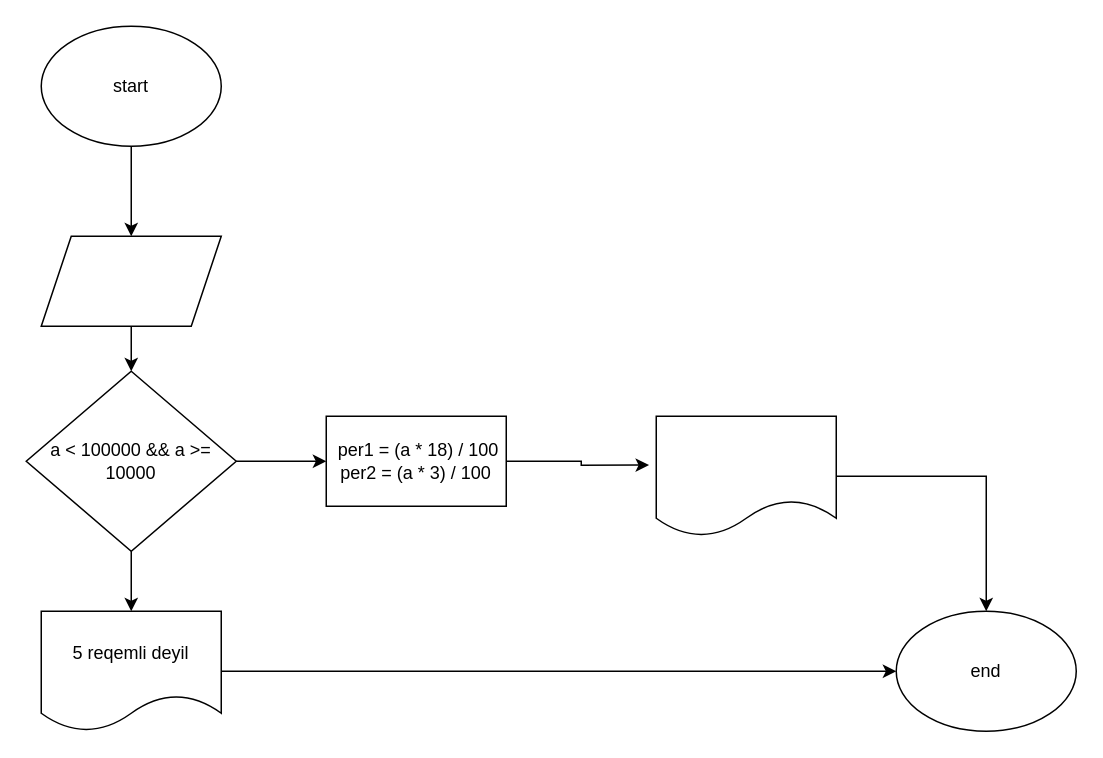
Some shapes in this 1103 by 758 pixel diagram are drawn without their labels. The centre of each missing label's shape, as x and y in pixels:
"a,per1,per2" goes at point (130, 280).
"per1,per2" goes at point (745, 475).
